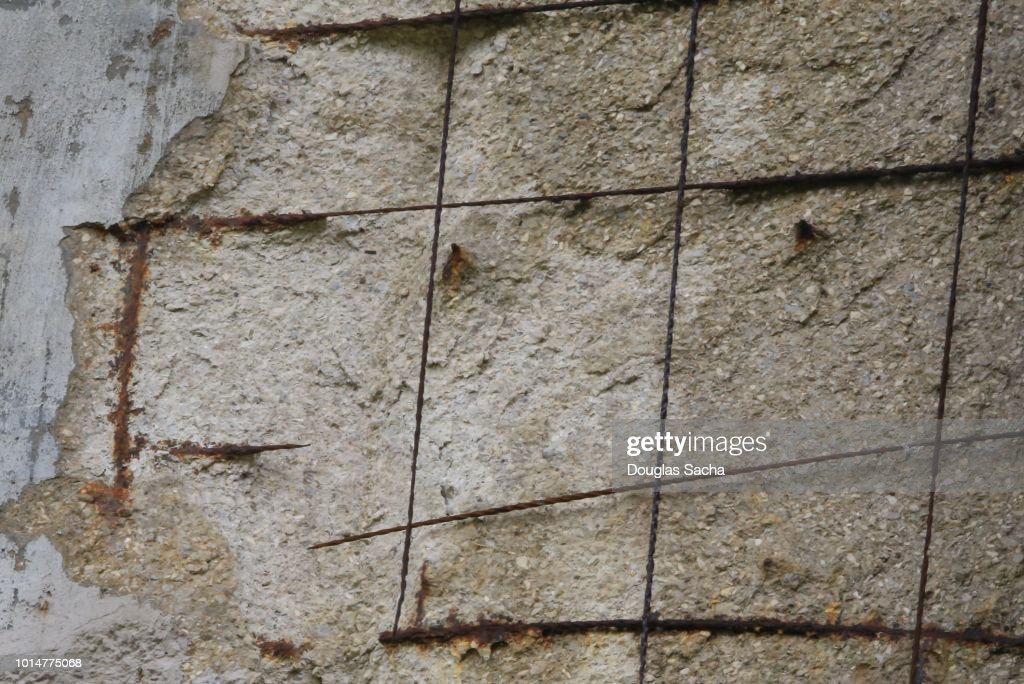Exposed reinforcement: (302, 430, 1024, 554), (61, 148, 1024, 236), (907, 1, 989, 684), (638, 1, 700, 684), (395, 1, 460, 636), (378, 615, 1024, 658), (233, 1, 616, 44), (107, 230, 153, 494), (151, 439, 312, 458)
Spalling: (1, 1, 1024, 684)
